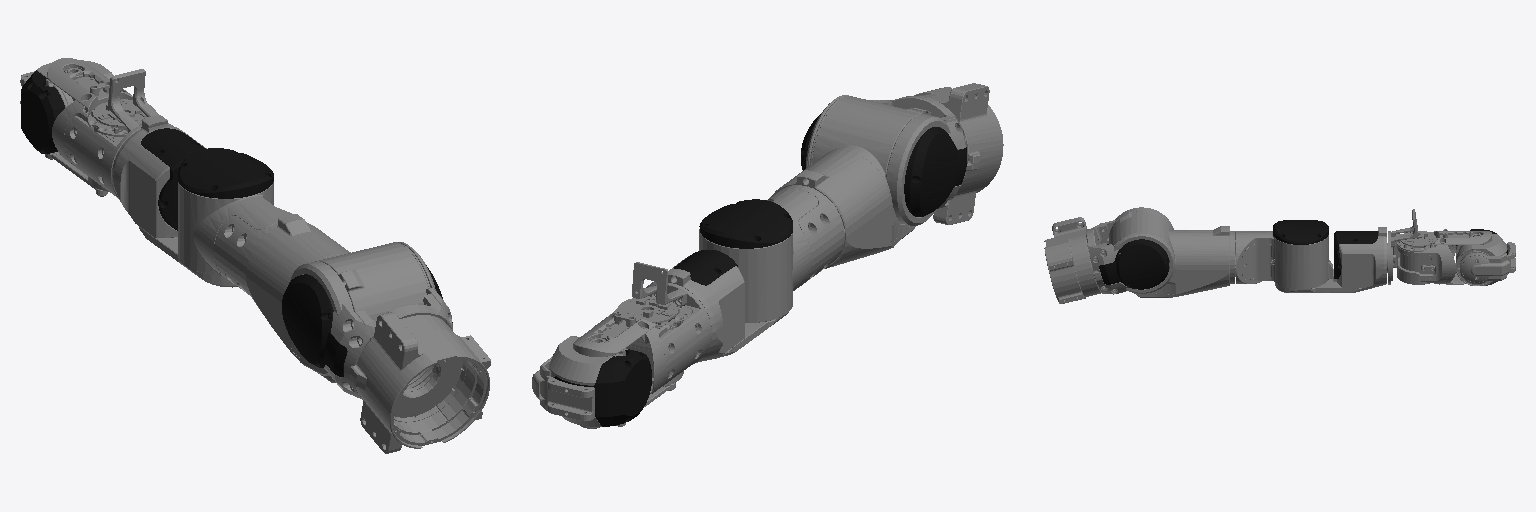
URDF robot description (robot):
<?xml version="1.0" encoding="utf-8"?>
<!-- Mentee Robotics LTD -->
<robot name="robot">
  <link name="right_arm_base_link">
    <inertial>
      <origin xyz="-0.036 0.000591345 -0.0567817" rpy="0.0 0.0 0.0" />
      <mass value="1.81895" />
      <inertia ixx="0.0" ixy="0.0" ixz="0.0" iyy="0.0" iyz="0.0" izz="0.0" />
    </inertial>
    <visual>
      <origin xyz="0.0 0.0 0.0" rpy="0.0 0.0 0.0" />
      <geometry>
        <mesh filename="../meshes/right_arm_base_link/component_0_21-21-22.STL" />
      </geometry>
      <material name="Aluminum_Cast">
        <color rgba="0.555 0.555 0.555 1.0" />
      </material>
    </visual>
    <collision>
      <origin xyz="0.0 0.0 0.0" rpy="0.0 0.0 0.0" />
      <geometry>
        <sphere radius="0.05" />
      </geometry>
    </collision>
  </link>
  <joint name="right_shoulder_pitch" type="revolute">
    <origin xyz="0.0 0.0 0.0" rpy="-1.309 0.0 0.0" />
    <parent link="right_arm_base_link" />
    <child link="right_shoulder_pitch_link" />
    <axis xyz="0.0 0.0 1.0" />
    <limit lower="-2.09" upper="2.09" effort="107.0" velocity="7.4" />
  </joint>
  <link name="right_shoulder_pitch_link">
    <inertial>
      <origin xyz="-0.00973509 0.000974406 0.0634577" rpy="0.0 0.0 0.0" />
      <mass value="0.481271" />
      <inertia ixx="0.0010015" ixy="-4.56274e-06" ixz="0.000174614" iyy="0.00126528" iyz="5.95111e-06" izz="0.000995084" />
    </inertial>
    <visual>
      <origin xyz="0.0 0.0 0.0" rpy="0.0 0.0 0.0" />
      <geometry>
        <mesh filename="../meshes/right_shoulder_pitch_link/component_2_21-21-789.STL" />
      </geometry>
      <material name="Plastic_Standardized_Surface_Finish">
        <color rgba="0.123 0.123 0.123 1.0" />
      </material>
    </visual>
    <visual>
      <origin xyz="0.0 0.0 0.0" rpy="0.0 0.0 0.0" />
      <geometry>
        <mesh filename="../meshes/right_shoulder_pitch_link/component_4_21-22-5342-45.STL" />
      </geometry>
      <material name="Plastic_Standardized_Surface_Finish">
        <color rgba="0.123 0.123 0.123 1.0" />
      </material>
    </visual>
    <visual>
      <origin xyz="0.0 0.0 0.0" rpy="0.0 0.0 0.0" />
      <geometry>
        <mesh filename="../meshes/right_shoulder_pitch_link/component_0_21-21-326.STL" />
      </geometry>
      <material name="Aluminum_Cast">
        <color rgba="0.555 0.555 0.555 1.0" />
      </material>
    </visual>
    <visual>
      <origin xyz="0.0 0.0 0.0" rpy="0.0 0.0 0.0" />
      <geometry>
        <mesh filename="../meshes/right_shoulder_pitch_link/component_1_21-21-324.STL" />
      </geometry>
      <material name="Aluminum_Cast">
        <color rgba="0.555 0.555 0.555 1.0" />
      </material>
    </visual>
    <visual>
      <origin xyz="0.0 0.0 0.0" rpy="0.0 0.0 0.0" />
      <geometry>
        <mesh filename="../meshes/right_shoulder_pitch_link/component_3_21-22-5342-29.STL" />
      </geometry>
      <material name="Aluminum_Cast">
        <color rgba="0.555 0.555 0.555 1.0" />
      </material>
    </visual>
  </link>
  <joint name="right_shoulder_roll" type="revolute">
    <origin xyz="0.0 0.0 0.103" rpy="-1.5708 0.0 1.5708" />
    <parent link="right_shoulder_pitch_link" />
    <child link="right_shoulder_roll_link" />
    <axis xyz="0.0 0.0 1.0" />
    <limit lower="-1.66" upper="0.42" effort="107.0" velocity="7.4" />
  </joint>
  <link name="right_shoulder_roll_link">
    <inertial>
      <origin xyz="0.0200438 -0.0387314 0.0052482" rpy="0.0 0.0 0.0" />
      <mass value="3.15871" />
      <inertia ixx="0.0102191" ixy="0.00257535" ixz="0.000335342" iyy="0.0050377" iyz="-0.000628823" izz="0.0118783" />
    </inertial>
    <visual>
      <origin xyz="0.0 0.0 0.0" rpy="0.0 0.0 0.0" />
      <geometry>
        <mesh filename="../meshes/right_shoulder_roll_link/component_0_21-22-5417-30.STL" />
      </geometry>
      <material name="Aluminum_Cast">
        <color rgba="0.555 0.555 0.555 1.0" />
      </material>
    </visual>
    <visual>
      <origin xyz="0.0 0.0 0.0" rpy="0.0 0.0 0.0" />
      <geometry>
        <mesh filename="../meshes/right_shoulder_roll_link/component_22_21-22-5342-21.STL" />
      </geometry>
      <material name="Aluminum_Cast">
        <color rgba="0.555 0.555 0.555 1.0" />
      </material>
    </visual>
    <visual>
      <origin xyz="0.0 0.0 0.0" rpy="0.0 0.0 0.0" />
      <geometry>
        <mesh filename="../meshes/right_shoulder_roll_link/component_23_21-22-5342-35.STL" />
      </geometry>
      <material name="Aluminum_Cast">
        <color rgba="0.555 0.555 0.555 1.0" />
      </material>
    </visual>
    <collision>
      <origin xyz="0.005 -0.02 0.0" rpy="0.0 0.0 0.0" />
      <geometry>
        <sphere radius="0.055" />
      </geometry>
    </collision>
    <collision>
      <origin xyz="0.042 -0.111 0.0" rpy="0.0 0.0 0.0" />
      <geometry>
        <sphere radius="0.04" />
      </geometry>
    </collision>
  </link>
  <joint name="right_shoulder_yaw" type="revolute">
    <origin xyz="0.0479552 -0.132607 0.0" rpy="-1.5708 0.0 -2.87979" />
    <parent link="right_shoulder_roll_link" />
    <child link="right_shoulder_yaw_link" />
    <axis xyz="0.0 0.0 1.0" />
    <limit lower="-2.09" upper="2.09" effort="67.0" velocity="7.5" />
  </joint>
  <link name="right_shoulder_yaw_link">
    <inertial>
      <origin xyz="-0.00400887 -0.00245285 0.080886" rpy="0.0 0.0 0.0" />
      <mass value="1.4394" />
      <inertia ixx="0.002863" ixy="1.54615e-05" ixz="0.000102086" iyy="0.00278717" iyz="-0.000137685" izz="0.00129" />
    </inertial>
    <visual>
      <origin xyz="0.0 0.0 0.0" rpy="0.0 0.0 0.0" />
      <geometry>
        <mesh filename="../meshes/right_shoulder_yaw_link/component_1_21-22-5417-22.STL" />
      </geometry>
      <material name="Aluminum_Cast">
        <color rgba="0.555 0.555 0.555 1.0" />
      </material>
    </visual>
    <visual>
      <origin xyz="0.0 0.0 0.0" rpy="0.0 0.0 0.0" />
      <geometry>
        <mesh filename="../meshes/right_shoulder_yaw_link/component_2_21-23-62.STL" />
      </geometry>
      <material name="Aluminum_Cast">
        <color rgba="0.555 0.555 0.555 1.0" />
      </material>
    </visual>
    <visual>
      <origin xyz="0.0 0.0 0.0" rpy="0.0 0.0 0.0" />
      <geometry>
        <mesh filename="../meshes/right_shoulder_yaw_link/component_3_21-23-484.STL" />
      </geometry>
      <material name="Aluminum_Cast">
        <color rgba="0.555 0.555 0.555 1.0" />
      </material>
    </visual>
    <visual>
      <origin xyz="0.0 0.0 0.0" rpy="0.0 0.0 0.0" />
      <geometry>
        <mesh filename="../meshes/right_shoulder_yaw_link/component_18_21-23-1313.STL" />
      </geometry>
      <material name="Plastic_Standardized_Surface_Finish">
        <color rgba="0.123 0.123 0.123 1.0" />
      </material>
    </visual>
  </link>
  <joint name="right_elbow" type="revolute">
    <origin xyz="0.0 0.0 0.0981" rpy="-1.5708 0.0 1.5708" />
    <parent link="right_shoulder_yaw_link" />
    <child link="right_elbow_link" />
    <axis xyz="0.0 0.0 1.0" />
    <limit lower="-2.36" upper="1.92" effort="67.0" velocity="7.5" />
  </joint>
  <link name="right_elbow_link">
    <inertial>
      <origin xyz="3.56036e-05 -0.0889067 0.00774094" rpy="0.0 0.0 0.0" />
      <mass value="1.12094" />
      <inertia ixx="0.00219782" ixy="2.01022e-06" ixz="3.32292e-07" iyy="0.00110422" iyz="-0.000444939" izz="0.00207647" />
    </inertial>
    <visual>
      <origin xyz="0.0 0.0 0.0" rpy="0.0 0.0 0.0" />
      <geometry>
        <mesh filename="../meshes/right_elbow_link/component_0_21-23-40.STL" />
      </geometry>
      <material name="Aluminum_Cast">
        <color rgba="0.555 0.555 0.555 1.0" />
      </material>
    </visual>
    <visual>
      <origin xyz="0.0 0.0 0.0" rpy="0.0 0.0 0.0" />
      <geometry>
        <mesh filename="../meshes/right_elbow_link/component_13_21-24-44.STL" />
      </geometry>
      <material name="Aluminum_Cast">
        <color rgba="0.555 0.555 0.555 1.0" />
      </material>
    </visual>
    <visual>
      <origin xyz="0.0 0.0 0.0" rpy="0.0 0.0 0.0" />
      <geometry>
        <mesh filename="../meshes/right_elbow_link/component_2_21-23-67.STL" />
      </geometry>
      <material name="Plastic_Standardized_Surface_Finish">
        <color rgba="0.123 0.123 0.123 1.0" />
      </material>
    </visual>
    <visual>
      <origin xyz="0.0 0.0 0.0" rpy="0.0 0.0 0.0" />
      <geometry>
        <mesh filename="../meshes/right_elbow_link/component_12_21-24-2833.STL" />
      </geometry>
      <material name="Plastic_Standardized_Surface_Finish">
        <color rgba="0.123 0.123 0.123 1.0" />
      </material>
    </visual>
    <collision>
      <origin xyz="0.0 -0.015 0.0" rpy="0.0 0.0 0.0" />
      <geometry>
        <sphere radius="0.05" />
      </geometry>
    </collision>
    <collision>
      <origin xyz="0.0 -0.076 0.0" rpy="0.0 0.0 0.0" />
      <geometry>
        <sphere radius="0.045" />
      </geometry>
    </collision>
  </link>
  <joint name="right_wrist_roll" type="revolute">
    <origin xyz="0.0 -0.13546 0.0" rpy="-1.5708 0.0 3.14159" />
    <parent link="right_elbow_link" />
    <child link="right_wrist_roll_link" />
    <axis xyz="0.0 0.0 1.0" />
    <limit lower="-2.09" upper="2.09" effort="34.3" velocity="8.0" />
  </joint>
  <link name="right_wrist_roll_link">
    <inertial>
      <origin xyz="0.00315867 -0.00292952 0.0476877" rpy="0.0 0.0 0.0" />
      <mass value="0.97539" />
      <inertia ixx="0.00147505" ixy="-2.10727e-07" ixz="5.23714e-05" iyy="0.0013434" iyz="8.35383e-06" izz="0.000808977" />
    </inertial>
    <visual>
      <origin xyz="0.0 0.0 0.0" rpy="0.0 0.0 0.0" />
      <geometry>
        <mesh filename="../meshes/right_wrist_roll_link/component_0_21-25-881.STL" />
      </geometry>
      <material name="Aluminum_Cast">
        <color rgba="0.555 0.555 0.555 1.0" />
      </material>
    </visual>
    <visual>
      <origin xyz="0.0 0.0 0.0" rpy="0.0 0.0 0.0" />
      <geometry>
        <mesh filename="../meshes/right_wrist_roll_link/component_1_21-25-206.STL" />
      </geometry>
      <material name="Aluminum_Cast">
        <color rgba="0.555 0.555 0.555 1.0" />
      </material>
    </visual>
    <visual>
      <origin xyz="0.0 0.0 0.0" rpy="0.0 0.0 0.0" />
      <geometry>
        <mesh filename="../meshes/right_wrist_roll_link/component_2_21-25-980.STL" />
      </geometry>
      <material name="Aluminum_Cast">
        <color rgba="0.555 0.555 0.555 1.0" />
      </material>
    </visual>
    <visual>
      <origin xyz="0.0 0.0 0.0" rpy="0.0 0.0 0.0" />
      <geometry>
        <mesh filename="../meshes/right_wrist_roll_link/component_3_21-25-91.STL" />
      </geometry>
      <material name="Aluminum_Cast">
        <color rgba="0.555 0.555 0.555 1.0" />
      </material>
    </visual>
    <visual>
      <origin xyz="0.0 0.0 0.0" rpy="0.0 0.0 0.0" />
      <geometry>
        <mesh filename="../meshes/right_wrist_roll_link/component_4_21-25-84.STL" />
      </geometry>
      <material name="Aluminum_Cast">
        <color rgba="0.555 0.555 0.555 1.0" />
      </material>
    </visual>
    <visual>
      <origin xyz="0.0 0.0 0.0" rpy="0.0 0.0 0.0" />
      <geometry>
        <mesh filename="../meshes/right_wrist_roll_link/component_5_21-25-2315.STL" />
      </geometry>
      <material name="Aluminum_Cast">
        <color rgba="0.555 0.555 0.555 1.0" />
      </material>
    </visual>
    <visual>
      <origin xyz="0.0 0.0 0.0" rpy="0.0 0.0 0.0" />
      <geometry>
        <mesh filename="../meshes/right_wrist_roll_link/component_6_21-25-1344.STL" />
      </geometry>
      <material name="Aluminum_Cast">
        <color rgba="0.555 0.555 0.555 1.0" />
      </material>
    </visual>
    <visual>
      <origin xyz="0.0 0.0 0.0" rpy="0.0 0.0 0.0" />
      <geometry>
        <mesh filename="../meshes/right_wrist_roll_link/component_7_21-25-1347.STL" />
      </geometry>
      <material name="Aluminum_Cast">
        <color rgba="0.555 0.555 0.555 1.0" />
      </material>
    </visual>
    <visual>
      <origin xyz="0.0 0.0 0.0" rpy="0.0 0.0 0.0" />
      <geometry>
        <mesh filename="../meshes/right_wrist_roll_link/component_8_21-25-947.STL" />
      </geometry>
      <material name="Aluminum_Cast">
        <color rgba="0.555 0.555 0.555 1.0" />
      </material>
    </visual>
    <visual>
      <origin xyz="0.0 0.0 0.0" rpy="0.0 0.0 0.0" />
      <geometry>
        <mesh filename="../meshes/right_wrist_roll_link/component_9_21-25-22-880.STL" />
      </geometry>
      <material name="Aluminum_Cast">
        <color rgba="0.555 0.555 0.555 1.0" />
      </material>
    </visual>
    <visual>
      <origin xyz="0.0 0.0 0.0" rpy="0.0 0.0 0.0" />
      <geometry>
        <mesh filename="../meshes/right_wrist_roll_link/component_10_21-24-48.STL" />
      </geometry>
      <material name="Aluminum_Cast">
        <color rgba="0.555 0.555 0.555 1.0" />
      </material>
    </visual>
    <visual>
      <origin xyz="0.0 0.0 0.0" rpy="0.0 0.0 0.0" />
      <geometry>
        <mesh filename="../meshes/right_wrist_roll_link/component_11_21-24-1521.STL" />
      </geometry>
      <material name="Aluminum_Cast">
        <color rgba="0.555 0.555 0.555 1.0" />
      </material>
    </visual>
    <visual>
      <origin xyz="0.0 0.0 0.0" rpy="0.0 0.0 0.0" />
      <geometry>
        <mesh filename="../meshes/right_wrist_roll_link/component_12_21-25-964.STL" />
      </geometry>
      <material name="Aluminum_Cast">
        <color rgba="0.555 0.555 0.555 1.0" />
      </material>
    </visual>
    <visual>
      <origin xyz="0.0 0.0 0.0" rpy="0.0 0.0 0.0" />
      <geometry>
        <mesh filename="../meshes/right_wrist_roll_link/component_13_21-25-22-39.STL" />
      </geometry>
      <material name="Aluminum_Cast">
        <color rgba="0.555 0.555 0.555 1.0" />
      </material>
    </visual>
    <visual>
      <origin xyz="0.0 0.0 0.0" rpy="0.0 0.0 0.0" />
      <geometry>
        <mesh filename="../meshes/right_wrist_roll_link/component_14_21-25-22-37.STL" />
      </geometry>
      <material name="Aluminum_Cast">
        <color rgba="0.555 0.555 0.555 1.0" />
      </material>
    </visual>
    <visual>
      <origin xyz="0.0 0.0 0.0" rpy="0.0 0.0 0.0" />
      <geometry>
        <mesh filename="../meshes/right_wrist_roll_link/component_16_21-25-1041.STL" />
      </geometry>
      <material name="Aluminum_Cast">
        <color rgba="0.555 0.555 0.555 1.0" />
      </material>
    </visual>
    <visual>
      <origin xyz="0.0 0.0 0.0" rpy="0.0 0.0 0.0" />
      <geometry>
        <mesh filename="../meshes/right_wrist_roll_link/component_17_21-24-1527.STL" />
      </geometry>
      <material name="Aluminum_Cast">
        <color rgba="0.555 0.555 0.555 1.0" />
      </material>
    </visual>
    <visual>
      <origin xyz="0.0 0.0 0.0" rpy="0.0 0.0 0.0" />
      <geometry>
        <mesh filename="../meshes/right_wrist_roll_link/component_18_21-25-22-148.STL" />
      </geometry>
      <material name="Aluminum_Cast">
        <color rgba="0.555 0.555 0.555 1.0" />
      </material>
    </visual>
    <visual>
      <origin xyz="0.0 0.0 0.0" rpy="0.0 0.0 0.0" />
      <geometry>
        <mesh filename="../meshes/right_wrist_roll_link/component_19_21-25-22-22.STL" />
      </geometry>
      <material name="Aluminum_Cast">
        <color rgba="0.555 0.555 0.555 1.0" />
      </material>
    </visual>
    <collision>
      <origin xyz="0.0 0.0 0.036" rpy="0.0 0.0 0.0" />
      <geometry>
        <sphere radius="0.04" />
      </geometry>
    </collision>
    <collision>
      <origin xyz="0.0 0.0 0.145" rpy="0.0 0.0 0.0" />
      <geometry>
        <sphere radius="0.04" />
      </geometry>
    </collision>
    <collision>
      <origin xyz="0.0 0.06 0.046" rpy="0.0 0.0 0.0" />
      <geometry>
        <sphere radius="0.025" />
      </geometry>
    </collision>
  </link>
  <joint name="right_wrist_cam_ee" type="fixed">
    <origin xyz="0.00029 0.0 0.187" rpy="0.0 0.0 0.0" />
    <parent link="right_wrist_roll_link" />
    <child link="right_wrist_cam_ee" />
  </joint>
  <link name="right_wrist_cam_ee" />
  <joint name="right_wrist_pitch" type="revolute">
    <origin xyz="0.0 0.0 0.129" rpy="-1.5708 0.0 -3.14159" />
    <parent link="right_wrist_roll_link" />
    <child link="right_wrist_pitch_link" />
    <axis xyz="0.0 0.0 1.0" />
    <limit lower="-0.66" upper="0.66" effort="34.3" velocity="8.0" />
  </joint>
  <link name="right_wrist_pitch_link">
    <inertial>
      <origin xyz="0.00509028 -0.00369281 0.000518607" rpy="0.0 0.0 0.0" />
      <mass value="0.665235" />
      <inertia ixx="0.000433199" ixy="-2.01798e-06" ixz="8.39548e-06" iyy="0.000448827" iyz="-1.17514e-06" izz="0.000458137" />
    </inertial>
    <visual>
      <origin xyz="0.0 0.0 0.0" rpy="0.0 0.0 0.0" />
      <geometry>
        <mesh filename="../meshes/right_wrist_pitch_link/component_0_21-25-863-41.STL" />
      </geometry>
      <material name="Aluminum_Cast">
        <color rgba="0.555 0.555 0.555 1.0" />
      </material>
    </visual>
    <visual>
      <origin xyz="0.0 0.0 0.0" rpy="0.0 0.0 0.0" />
      <geometry>
        <mesh filename="../meshes/right_wrist_pitch_link/component_1_21-25-863-601.STL" />
      </geometry>
      <material name="Aluminum_Cast">
        <color rgba="0.555 0.555 0.555 1.0" />
      </material>
    </visual>
    <visual>
      <origin xyz="0.0 0.0 0.0" rpy="0.0 0.0 0.0" />
      <geometry>
        <mesh filename="../meshes/right_wrist_pitch_link/component_2_21-25-863-22-39.STL" />
      </geometry>
      <material name="Aluminum_Cast">
        <color rgba="0.555 0.555 0.555 1.0" />
      </material>
    </visual>
    <visual>
      <origin xyz="0.0 0.0 0.0" rpy="0.0 0.0 0.0" />
      <geometry>
        <mesh filename="../meshes/right_wrist_pitch_link/component_3_21-25-863-22-27.STL" />
      </geometry>
      <material name="Aluminum_Cast">
        <color rgba="0.555 0.555 0.555 1.0" />
      </material>
    </visual>
    <visual>
      <origin xyz="0.0 0.0 0.0" rpy="0.0 0.0 0.0" />
      <geometry>
        <mesh filename="../meshes/right_wrist_pitch_link/component_5_21-25-863-22-37.STL" />
      </geometry>
      <material name="Aluminum_Cast">
        <color rgba="0.555 0.555 0.555 1.0" />
      </material>
    </visual>
    <visual>
      <origin xyz="0.0 0.0 0.0" rpy="0.0 0.0 0.0" />
      <geometry>
        <mesh filename="../meshes/right_wrist_pitch_link/component_21_21-25-863-615.STL" />
      </geometry>
      <material name="Plastic_Standardized_Surface_Finish">
        <color rgba="0.123 0.123 0.123 1.0" />
      </material>
    </visual>
  </link>
  <joint name="right_wrist_yaw" type="revolute">
    <origin xyz="0.0 0.0 0.0" rpy="-1.5708 0.0 -1.5708" />
    <parent link="right_wrist_pitch_link" />
    <child link="right_wrist_yaw_link" />
    <axis xyz="0.0 0.0 1.0" />
    <limit lower="-1.22" upper="1.22" effort="34.3" velocity="8.0" />
  </joint>
  <link name="right_wrist_yaw_link">
    <inertial>
      <origin xyz="0.0308936 2.56956e-08 0.0214615" rpy="0.0 0.0 0.0" />
      <mass value="0.151337" />
      <inertia ixx="8.2981e-05" ixy="-2.44022e-11" ixz="5.09221e-05" iyy="0.000148264" iyz="3.17978e-11" izz="0.000106817" />
    </inertial>
    <visual>
      <origin xyz="0.0 0.0 0.0" rpy="0.0 0.0 0.0" />
      <geometry>
        <mesh filename="../meshes/right_wrist_yaw_link/component_0_21-25-863-44.STL" />
      </geometry>
      <material name="Aluminum_Cast">
        <color rgba="0.555 0.555 0.555 1.0" />
      </material>
    </visual>
    <visual>
      <origin xyz="0.0 0.0 0.0" rpy="0.0 0.0 0.0" />
      <geometry>
        <mesh filename="../meshes/right_wrist_yaw_link/component_1_21-25-863-45.STL" />
      </geometry>
      <material name="Aluminum_Cast">
        <color rgba="0.555 0.555 0.555 1.0" />
      </material>
    </visual>
  </link>
  <joint name="right_hand_base" type="fixed">
    <origin xyz="0.058 0.0 0.0" rpy="-1.5708 0.0 -1.5708" />
    <parent link="right_wrist_yaw_link" />
    <child link="right_hand_base" />
  </joint>
  <link name="right_hand_base" />
</robot>

--- Facts derived from the render (not from the file) ---
The picture shows the robot from 3 angles, left to right: view 1: azimuth 30°, elevation 25°; view 2: azimuth 150°, elevation 25°; view 3: azimuth 270°, elevation 25°; orthographic projection.
Model robot with 10 links and 9 joints (7 revolute, 2 fixed), rooted at right_arm_base_link, posed every joint at zero.
Links seen in each view (by area): view 1: right_arm_base_link, right_shoulder_yaw_link, right_shoulder_roll_link, right_shoulder_pitch_link, right_wrist_roll_link, right_elbow_link, right_wrist_pitch_link; view 2: right_shoulder_yaw_link, right_shoulder_roll_link, right_wrist_roll_link, right_shoulder_pitch_link, right_wrist_pitch_link, right_elbow_link, right_arm_base_link, right_wrist_yaw_link; view 3: right_shoulder_yaw_link, right_shoulder_roll_link, right_shoulder_pitch_link, right_wrist_roll_link, right_elbow_link, right_arm_base_link, right_wrist_yaw_link, right_wrist_pitch_link.
Link boxes in pixels (bbox=[...]): right_arm_base_link: bbox=[349, 312, 490, 453]; right_shoulder_yaw_link: bbox=[178, 148, 291, 294]; right_shoulder_roll_link: bbox=[246, 214, 430, 382]; right_shoulder_pitch_link: bbox=[282, 242, 452, 399]; right_wrist_roll_link: bbox=[45, 58, 172, 198]; right_elbow_link: bbox=[112, 115, 237, 287]; right_wrist_pitch_link: bbox=[21, 60, 113, 159]; right_shoulder_yaw_link: bbox=[699, 185, 844, 322]; right_shoulder_roll_link: bbox=[771, 96, 930, 268]; right_wrist_roll_link: bbox=[573, 262, 711, 428]; right_shoulder_pitch_link: bbox=[801, 95, 967, 225]; right_wrist_pitch_link: bbox=[549, 336, 651, 426]; right_elbow_link: bbox=[646, 250, 788, 362]; right_arm_base_link: bbox=[915, 83, 1003, 224]; right_wrist_yaw_link: bbox=[532, 354, 594, 421]; right_shoulder_yaw_link: bbox=[1230, 220, 1332, 288]; right_shoulder_roll_link: bbox=[1109, 211, 1229, 297]; right_shoulder_pitch_link: bbox=[1087, 207, 1174, 294]; right_wrist_roll_link: bbox=[1387, 209, 1491, 284]; right_elbow_link: bbox=[1275, 227, 1386, 292]; right_arm_base_link: bbox=[1044, 217, 1100, 303]; right_wrist_yaw_link: bbox=[1460, 242, 1515, 283]; right_wrist_pitch_link: bbox=[1456, 229, 1507, 285].
Size in the robot's own frame: 0.1243 by 0.7074 by 0.1517 metres.
Meshes: 44 distinct files referenced, 44 mesh visuals loaded (44 binary STL).